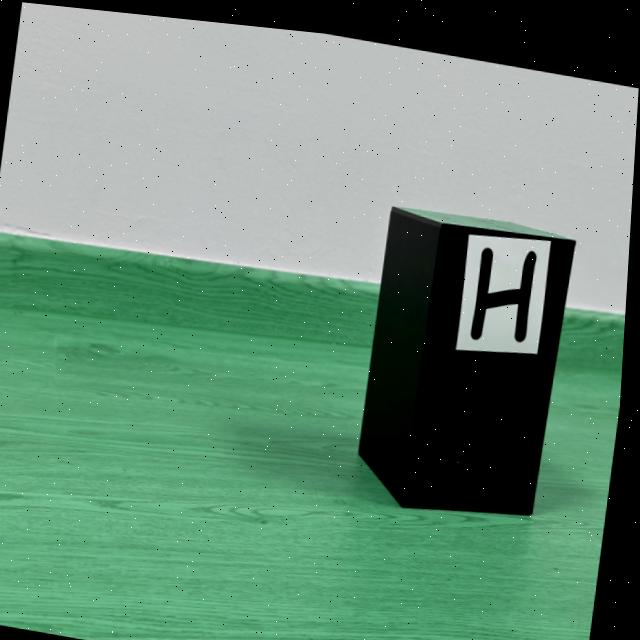H: (473, 236, 539, 331)
